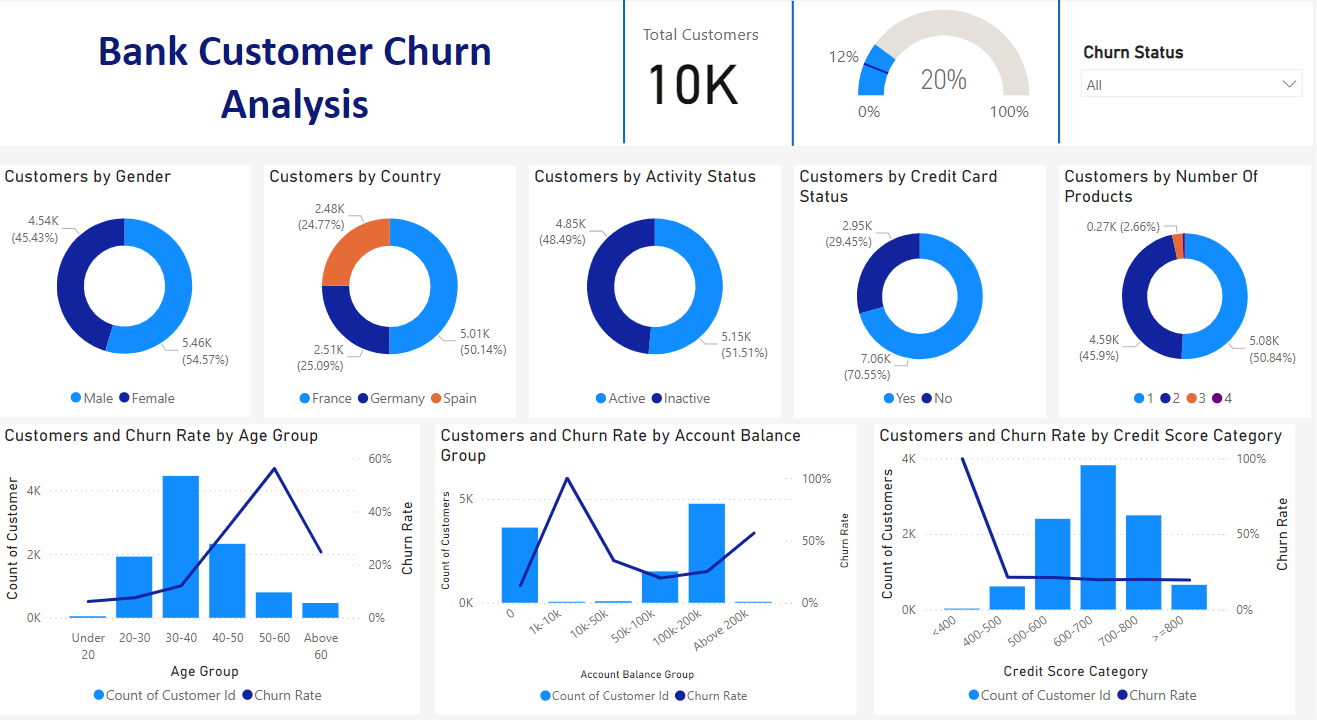

What the dashboard file says about the page in this screenshot:
{"tool":"powerbi","page":{"name":"Page 1","canvas":[1280,720],"ordinal":0},"visuals":[{"type":"shape","box":[0,9.6,1280.3,140],"z":0},{"type":"cardVisual","fields":{"Data":["Bank_Churn.Total Customers"]},"box":[610.6,9.6,196.2,130.4],"z":1000},{"type":"donutChart","title":"Customers by Gender","fields":{"Y":["CountNonNull(Bank_Churn.Customer Id)"],"Category":["Bank_Churn.Gender"]},"box":[0,169.3,245,245],"z":2000},{"type":"donutChart","title":"Customers by Country ","fields":{"Y":["CountNonNull(Bank_Churn.Customer Id)"],"Category":["Bank_Churn.Geography"]},"box":[257.8,169,245.6,245.6],"z":3000},{"type":"donutChart","title":"Customers  by Activity Status","fields":{"Y":["CountNonNull(Bank_Churn.Customer Id)"],"Category":["Bank_Churn.Activity Status"]},"box":[516.3,169,245.6,245.6],"z":4000},{"type":"donutChart","title":"Customers by Credit Card Status","fields":{"Y":["CountNonNull(Bank_Churn.Customer Id)"],"Category":["Bank_Churn.Credit Card Status"]},"box":[774.8,169,245.6,245.6],"z":5000},{"type":"donutChart","title":"Customers  by Number Of Products","fields":{"Y":["CountNonNull(Bank_Churn.Customer Id)"],"Category":["Bank_Churn.Number Of Products"]},"box":[1033.3,169,245.6,245.6],"z":6000},{"type":"lineClusteredColumnComboChart","title":"Customers and Churn Rate by Age Group","fields":{"Category":["Age Groups.Age Group"],"Y":["CountNonNull(Bank_Churn.Customer Id)"],"Y2":["Bank_Churn.Churn Rate"]},"box":[0,421.3,410,282.7],"z":7000},{"type":"lineClusteredColumnComboChart","title":"Customers and Churn Rate by Account Balance Group","fields":{"Category":["Account Balance Group.Account Balance Group"],"Y":["CountNonNull(Bank_Churn.Customer Id)"],"Y2":["Bank_Churn.Churn Rate"]},"box":[425.4,421.3,410,282.7],"z":8000},{"type":"lineClusteredColumnComboChart","title":"Customers and Churn Rate by Credit Score Category","fields":{"Category":["Credit Score Categories.Credit Score Category"],"Y":["CountNonNull(Bank_Churn.Customer Id)"],"Y2":["Bank_Churn.Churn Rate"]},"box":[852.1,421.3,410,282.7],"z":9000},{"type":"slicer","fields":{"Values":["Bank_Churn.Churn Status"]},"box":[1044.3,43.9,236,64.5],"z":10000},{"type":"gauge","fields":{"MinValue":["Min(Bank_Churn.Min Churn)"],"MaxValue":["Max(Bank_Churn.Max Churn)"],"TargetValue":["Min(Bank_Churn.Target Churn Rate)"],"Y":["Bank_Churn.Churn Rate"]},"box":[797.3,9.6,211.3,130.4],"z":11000},{"type":"textbox","box":[0,30.2,575,13.7],"z":12000},{"type":"textbox","box":[0,26.1,576.3,120.8],"z":13000},{"type":"shape","box":[741,8.2,65.9,141.3],"z":13001},{"type":"shape","box":[1000.3,5.5,65.9,141.3],"z":13002},{"type":"shape","box":[576.3,5.5,65.9,141.3],"z":13003}]}

Visuals, with their boxes in screenshot pixels (x1, y1, x2, y2), scaled from the page's 1280x720 canvas onto the 1317x720 screenshot:
shape: <box>0,10,1316,150</box>
cardVisual - Bank_Churn.Total Customers: <box>628,10,830,140</box>
"Customers by Gender" donutChart: <box>0,169,252,414</box>
"Customers by Country " donutChart: <box>265,169,518,415</box>
"Customers  by Activity Status" donutChart: <box>531,169,784,415</box>
"Customers by Credit Card Status" donutChart: <box>797,169,1050,415</box>
"Customers  by Number Of Products" donutChart: <box>1063,169,1316,415</box>
"Customers and Churn Rate by Age Group" lineClusteredColumnComboChart: <box>0,421,422,704</box>
"Customers and Churn Rate by Account Balance Group" lineClusteredColumnComboChart: <box>438,421,860,704</box>
"Customers and Churn Rate by Credit Score Category" lineClusteredColumnComboChart: <box>877,421,1299,704</box>
slicer - Bank_Churn.Churn Status: <box>1074,44,1316,108</box>
gauge - Min(Bank_Churn.Min Churn) x Max(Bank_Churn.Max Churn): <box>820,10,1038,140</box>
textbox: <box>0,30,592,44</box>
textbox: <box>0,26,593,147</box>
shape: <box>762,8,830,150</box>
shape: <box>1029,6,1097,147</box>
shape: <box>593,6,661,147</box>
